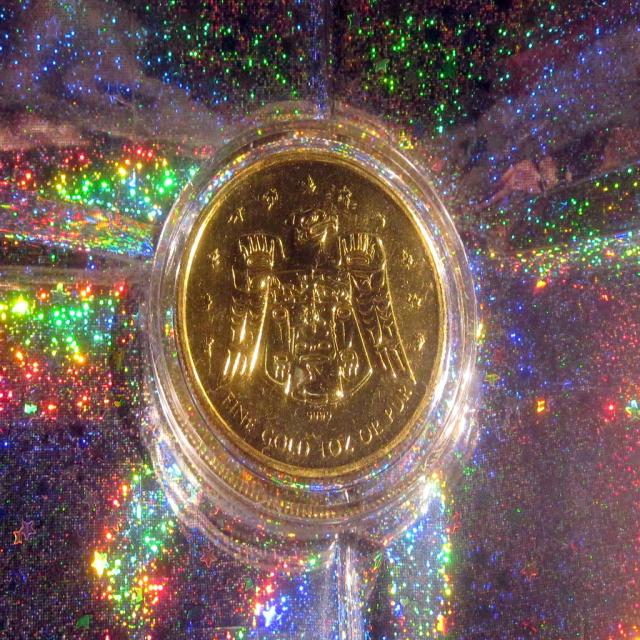Coin: (170, 149, 450, 483)
